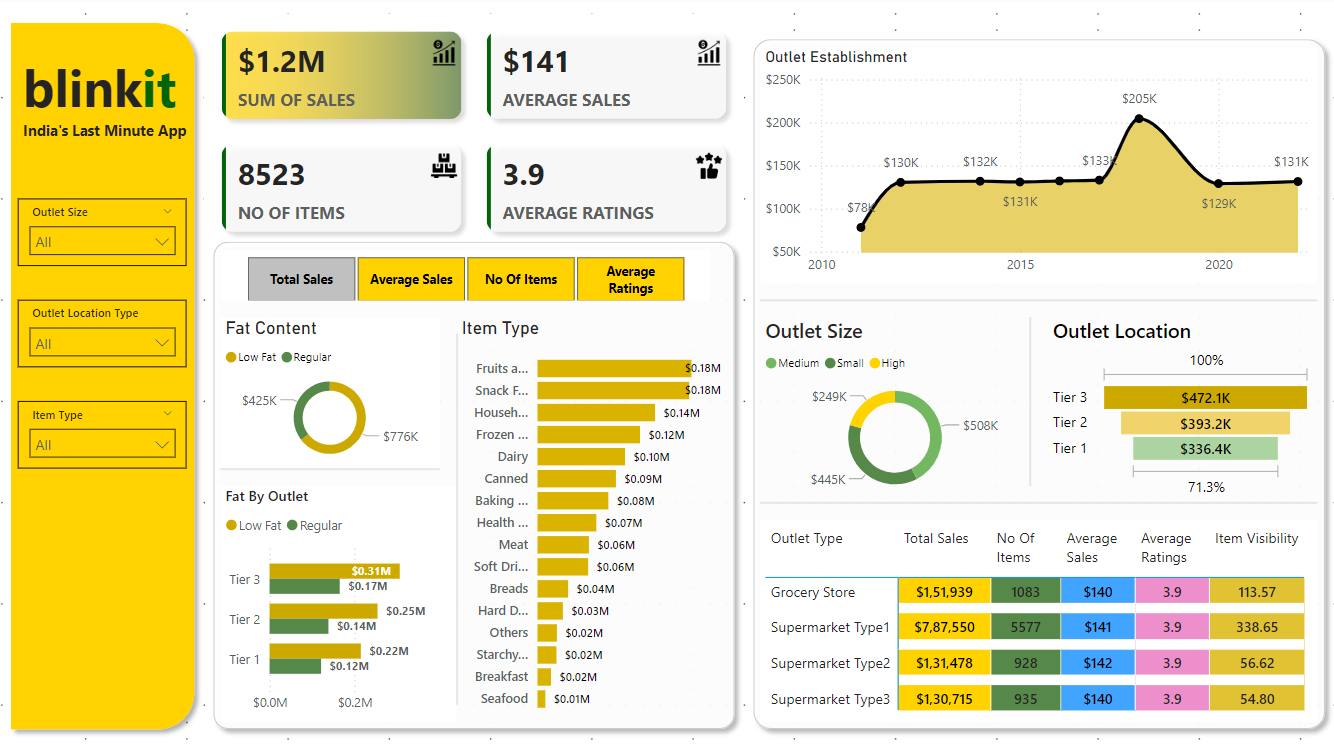

The page's visual inventory and layout, read from the dashboard file:
{"tool":"powerbi","page":{"name":"Page 1","canvas":[1280,720],"ordinal":0},"visuals":[{"type":"shape","box":[16,16,192,688],"z":0},{"type":"textbox","box":[32,48,176,80],"z":1000},{"type":"textbox","box":[32,112,176,32],"z":2000},{"type":"cardVisual","fields":{"Data":["Sum(BlinkIT Grocery Data.Sales)","BlinkIT Grocery Data.Average Sales","BlinkIT Grocery Data.No Of Items","BlinkIT Grocery Data.Average Ratings"]},"box":[208,16,512,224],"z":3000},{"type":"shape","box":[208,224,512,480],"z":4000},{"type":"donutChart","title":"Fat Content","fields":{"Y":["BlinkIT Grocery Data.Total Sales"],"Category":["BlinkIT Grocery Data.Item Fat Content"]},"box":[224,304,208,144],"z":5000},{"type":"slicer","fields":{"Values":["Metrics.Metrics"]},"box":[224,240,464,48],"z":6000},{"type":"clusteredBarChart","title":"Fat By Outlet","fields":{"Y":["BlinkIT Grocery Data.Total Sales"],"Category":["BlinkIT Grocery Data.Outlet Location Type"],"Series":["BlinkIT Grocery Data.Item Fat Content"]},"box":[224,464,224,224],"z":7000},{"type":"shape","box":[224,432,208,32],"z":8000},{"type":"shape","box":[336,320,224,352],"z":9000},{"type":"clusteredBarChart","title":"Item Type","fields":{"Y":["BlinkIT Grocery Data.Total Sales"],"Category":["BlinkIT Grocery Data.Item Type"]},"box":[448,304,256,384],"z":10000},{"type":"shape","box":[720,32,560,672],"z":11000},{"type":"lineChart","title":"Outlet Establishment","fields":{"Y":["BlinkIT Grocery Data.Total Sales"],"Category":["BlinkIT Grocery Data.Outlet Establishment Year"]},"box":[736,48,528,224],"z":12000},{"type":"shape","box":[736,272,528,32],"z":13000},{"type":"donutChart","title":"Outlet Size","fields":{"Y":["BlinkIT Grocery Data.Total Sales"],"Category":["BlinkIT Grocery Data.Outlet Size"]},"box":[736,304,256,176],"z":14000},{"type":"funnel","title":"Outlet Location","fields":{"Y":["Sum(BlinkIT Grocery Data.Sales)"],"Category":["BlinkIT Grocery Data.Outlet Location Type"]},"box":[1008,304,256,176],"z":15000},{"type":"shape","box":[960,304,64,160],"z":16000},{"type":"shape","box":[736,464,528,32],"z":17000},{"type":"pivotTable","fields":{"Rows":["BlinkIT Grocery Data.Outlet Type"],"Values":["BlinkIT Grocery Data.Total Sales","BlinkIT Grocery Data.No Of Items","BlinkIT Grocery Data.Average Sales","BlinkIT Grocery Data.Average Ratings","Sum(BlinkIT Grocery Data.Item Visibility)"]},"box":[736,496,528,192],"z":18000},{"type":"slicer","fields":{"Values":["BlinkIT Grocery Data.Outlet Location Type"]},"box":[32,288,160,64],"z":19000},{"type":"slicer","fields":{"Values":["BlinkIT Grocery Data.Item Type"]},"box":[32,384,160,64],"z":20000},{"type":"slicer","fields":{"Values":["BlinkIT Grocery Data.Outlet Size"]},"box":[32,192,160,64],"z":21000}]}

Visuals, with their boxes in screenshot pixels (x1, y1, x2, y2), scaled from the page's 1280x720 canvas onto the 1334x754 screenshot:
shape: 17,17,217,737
textbox: 33,50,217,134
textbox: 33,117,217,151
cardVisual - Sum(BlinkIT Grocery Data.Sales) x BlinkIT Grocery Data.Average Sales: 217,17,750,251
shape: 217,235,750,737
"Fat Content" donutChart: 233,318,450,469
slicer - Metrics.Metrics: 233,251,717,302
"Fat By Outlet" clusteredBarChart: 233,486,467,720
shape: 233,452,450,486
shape: 350,335,584,704
"Item Type" clusteredBarChart: 467,318,734,720
shape: 750,34,1333,737
"Outlet Establishment" lineChart: 767,50,1317,285
shape: 767,285,1317,318
"Outlet Size" donutChart: 767,318,1034,503
"Outlet Location" funnel: 1051,318,1317,503
shape: 1000,318,1067,486
shape: 767,486,1317,519
pivotTable - BlinkIT Grocery Data.Outlet Type x BlinkIT Grocery Data.Total Sales: 767,519,1317,720
slicer - BlinkIT Grocery Data.Outlet Location Type: 33,302,200,369
slicer - BlinkIT Grocery Data.Item Type: 33,402,200,469
slicer - BlinkIT Grocery Data.Outlet Size: 33,201,200,268
